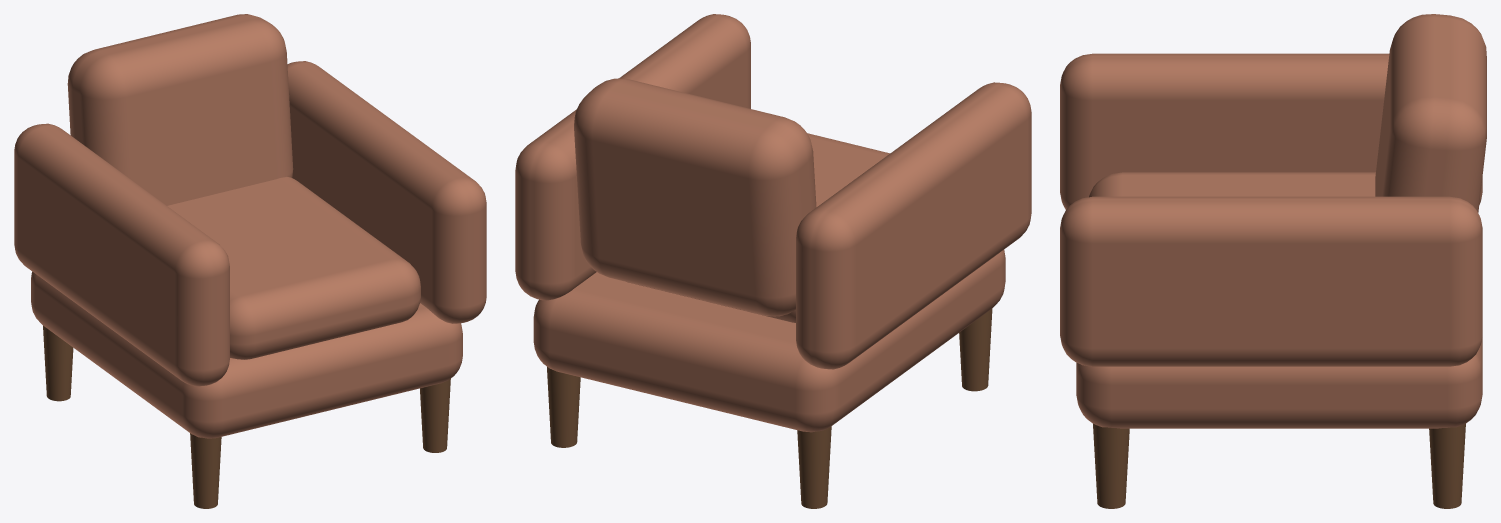
Rendered from arc-chair-clay.glb.
3 views of the same model, side by side, from view 1: azimuth 30°, elevation 25°; view 2: azimuth 150°, elevation 25°; view 3: azimuth 270°, elevation 25° (orthographic). The views are drawn at different scales.
Parts seen in each view (by area): view 1: The Arc Chair — Clay; view 2: The Arc Chair — Clay; view 3: The Arc Chair — Clay.
Boxes of the visible parts, x1,y1,x2,y2 form: The Arc Chair — Clay: (14,14,486,508); The Arc Chair — Clay: (515,14,1031,508); The Arc Chair — Clay: (1060,14,1486,508).
Bounding box in the file's own units: 0.78 × 0.81 × 0.82.
